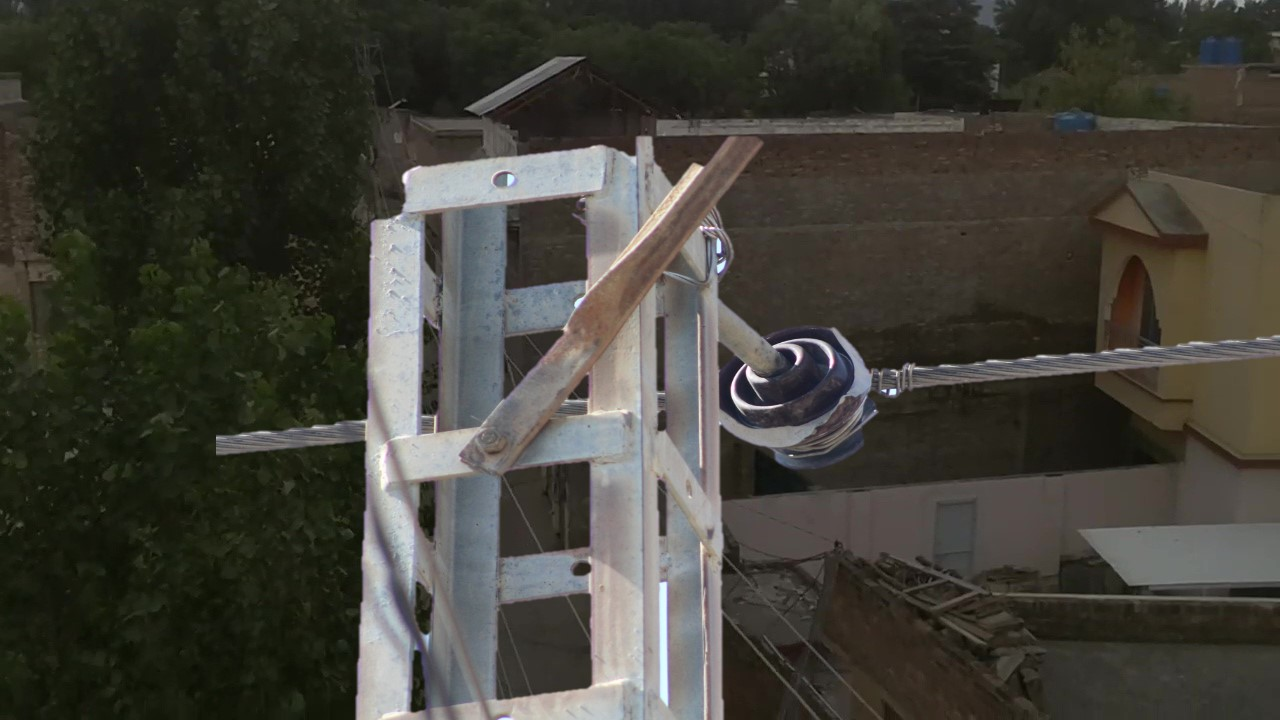defect_pin: (719, 312, 892, 472)
